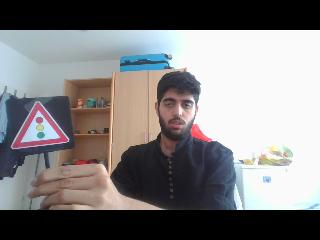traffic_light: (9, 100, 73, 148)
